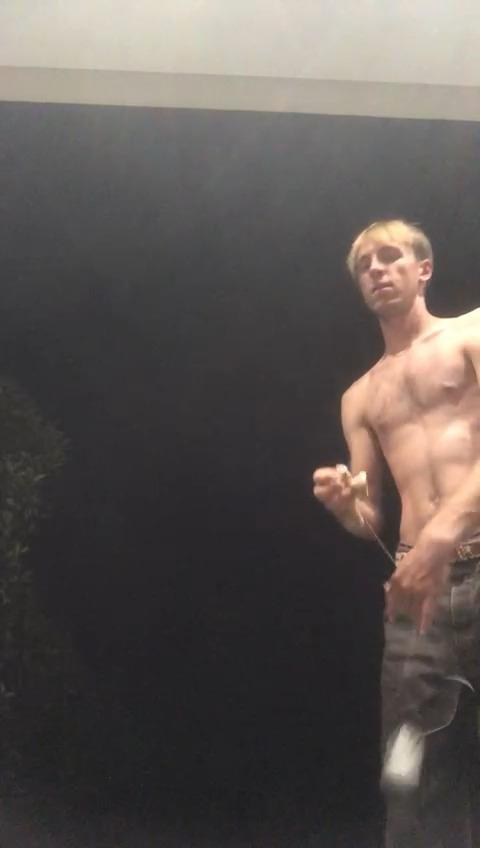kendama_ball: (380, 720, 425, 797)
